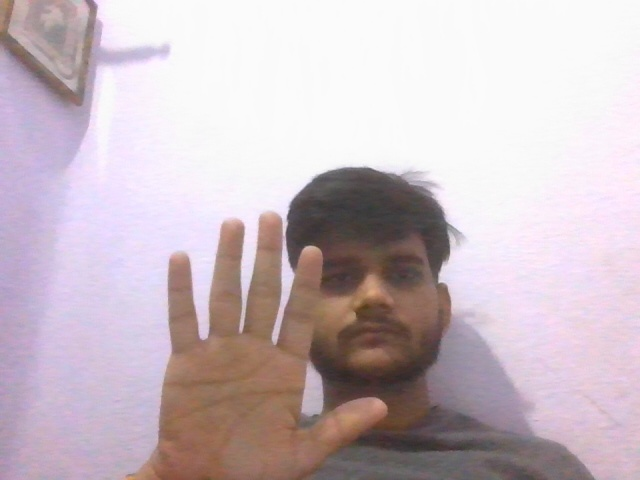hello: (127, 204, 388, 480)
